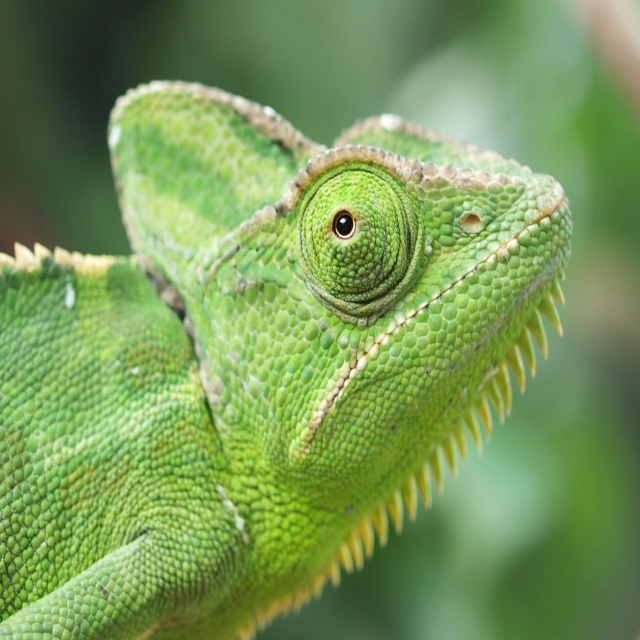Lizard: (66, 84, 572, 633)
